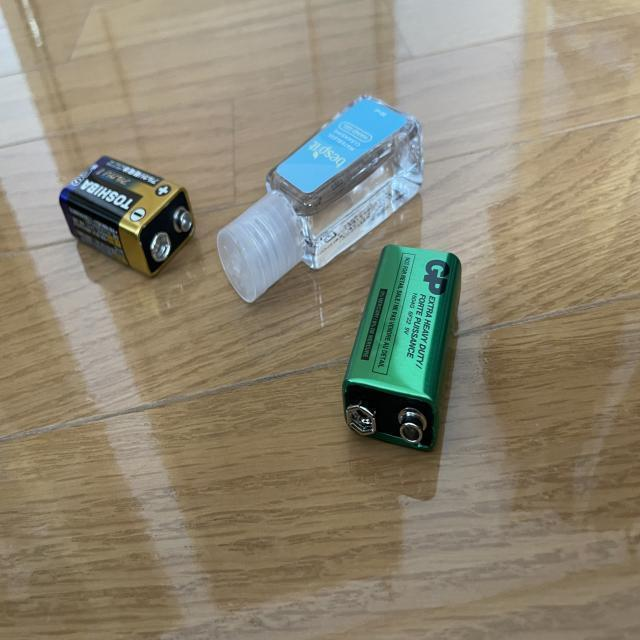9V: (344, 245, 463, 454), (58, 155, 195, 281)
